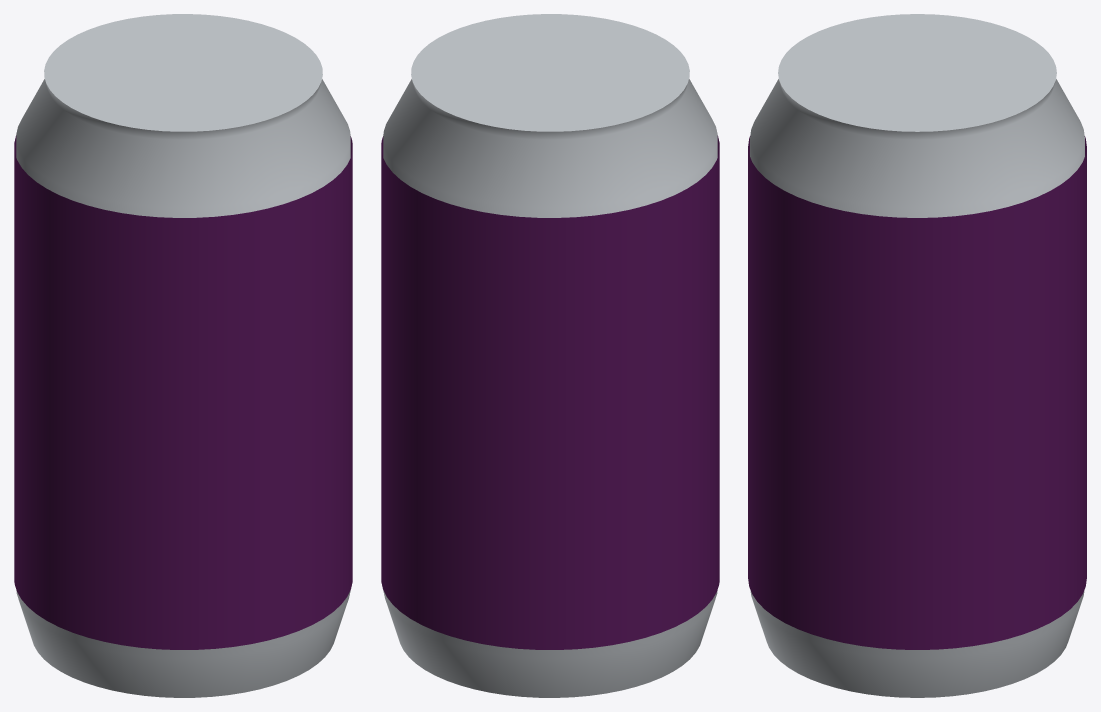
Rendered from lata-roxo.glb.
3 views of the same model, side by side, from view 1: azimuth 30°, elevation 25°; view 2: azimuth 150°, elevation 25°; view 3: azimuth 270°, elevation 25° (orthographic).
Visible parts, largest first — view 1: lata-roxo; view 2: lata-roxo; view 3: lata-roxo.
Part boxes in pixels (box(x1,y1,x2,y2)): lata-roxo: box(14, 14, 352, 697); lata-roxo: box(381, 14, 719, 697); lata-roxo: box(748, 14, 1086, 697).
Bounding box in the file's own units: 0.0668 × 0.122 × 0.0668.
